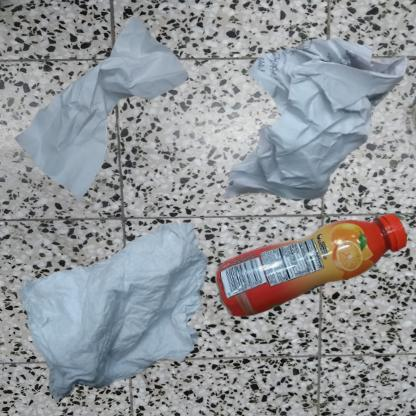botella: (213, 213, 412, 318)
papel: (10, 213, 256, 416), (213, 10, 416, 252), (10, 10, 192, 213)
